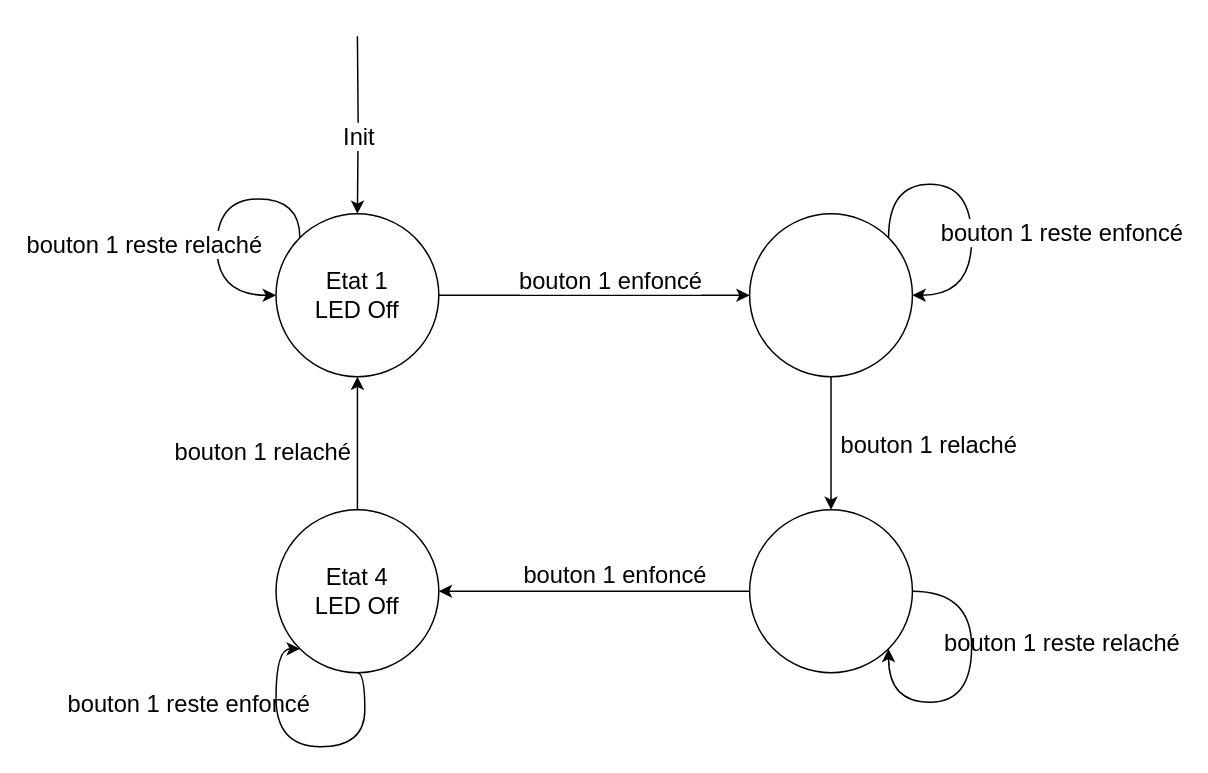
Some shapes in this 1208 by 773 pixel diagram are drawn without their labels. Each missing label, with the centre of its shape:
"Etat 2 LED On" belongs at point 830,294.
"Etat 3 LED On" belongs at point 830,590.
